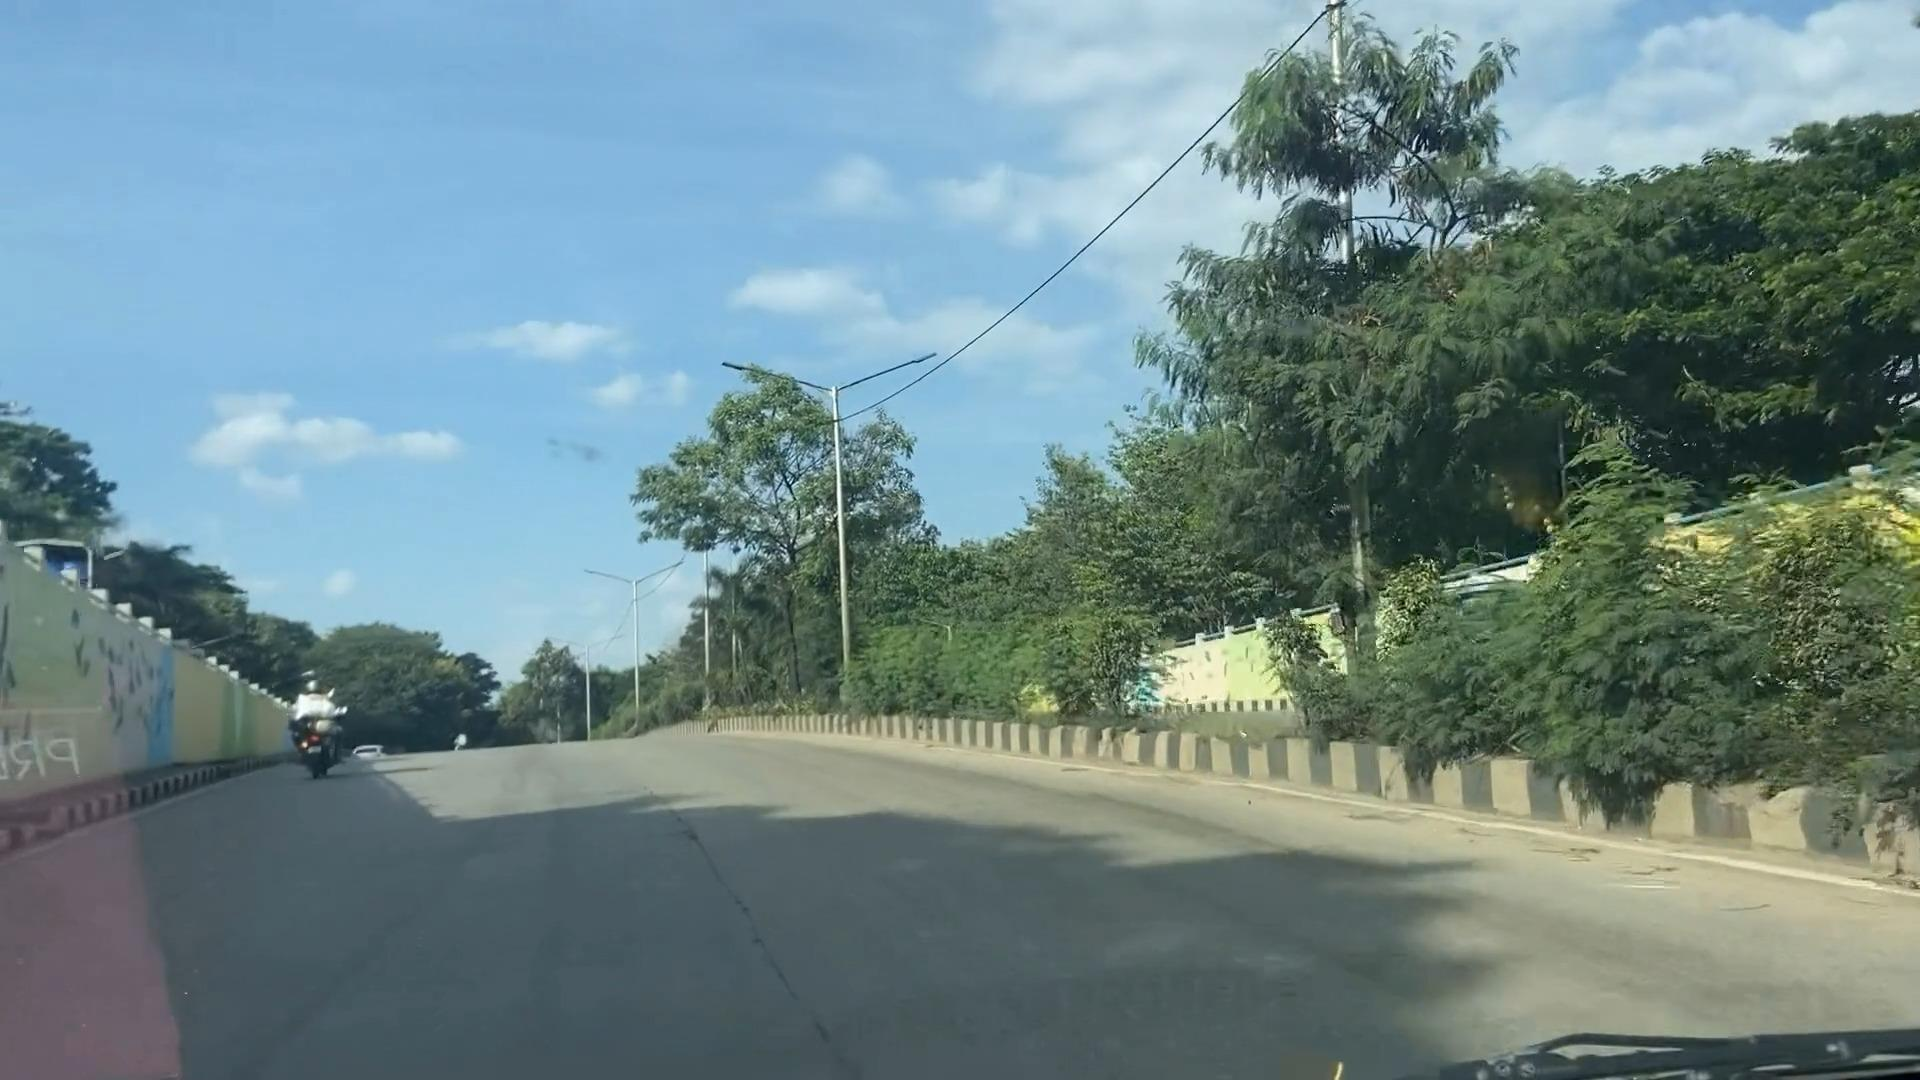LMV: (294, 680, 344, 771)
RoadDamages: (665, 789, 856, 1077)
